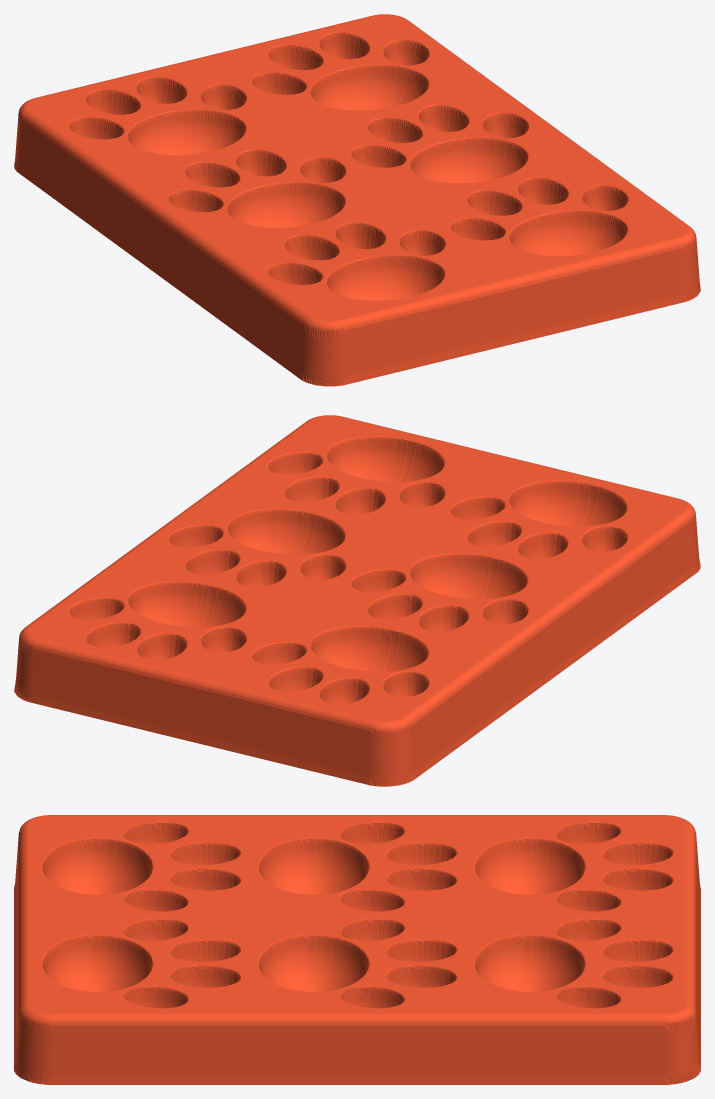
File: mold.glb
The picture shows the model from 3 angles, top to bottom: view 1: azimuth 30°, elevation 25°; view 2: azimuth 150°, elevation 25°; view 3: azimuth 270°, elevation 25°; orthographic projection. The views are drawn at different scales.
Parts seen in each view (by area): view 1: geometry_0; view 2: geometry_0; view 3: geometry_0.
Boxes of the visible parts, x1=… form: geometry_0: x1=14, y1=14, x2=700, y2=386; geometry_0: x1=14, y1=415, x2=700, y2=786; geometry_0: x1=14, y1=815, x2=700, y2=1084.
Bounding box in the file's own units: 0.1211 × 0.0175 × 0.1674.
